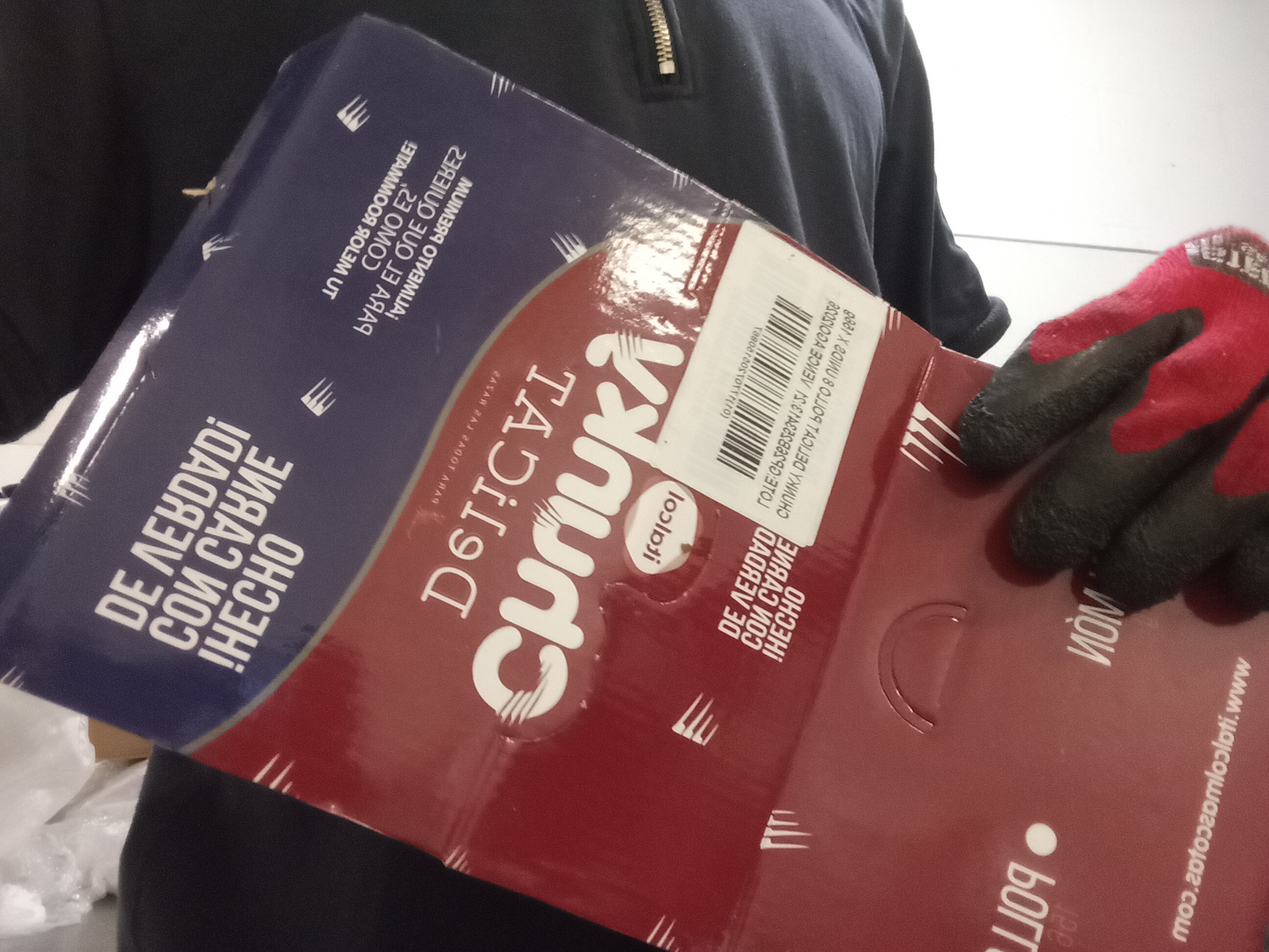Carton: (0, 15, 1269, 949)
